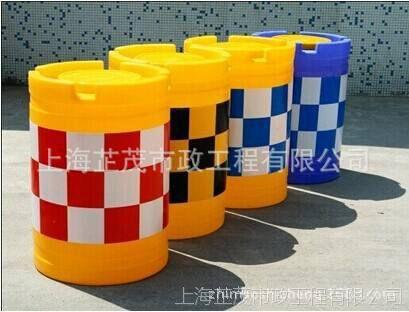sign: (25, 57, 173, 285), (105, 37, 230, 233), (183, 28, 298, 213), (255, 21, 360, 194)
